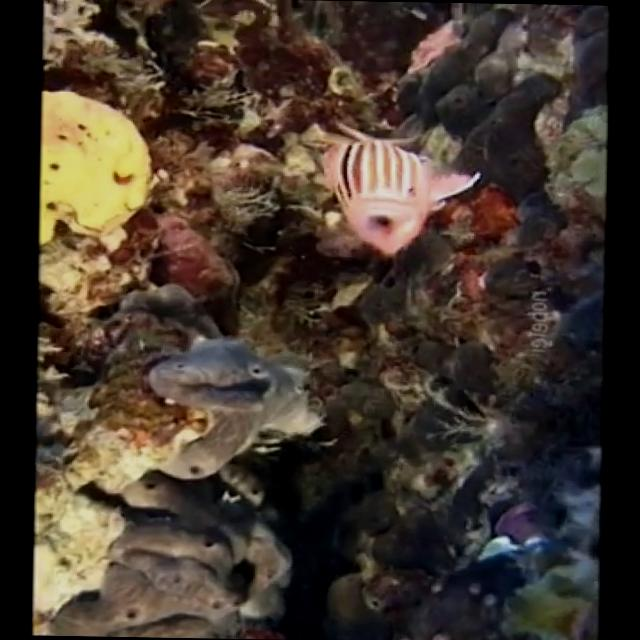Asker Baligi: (313, 120, 482, 260)
